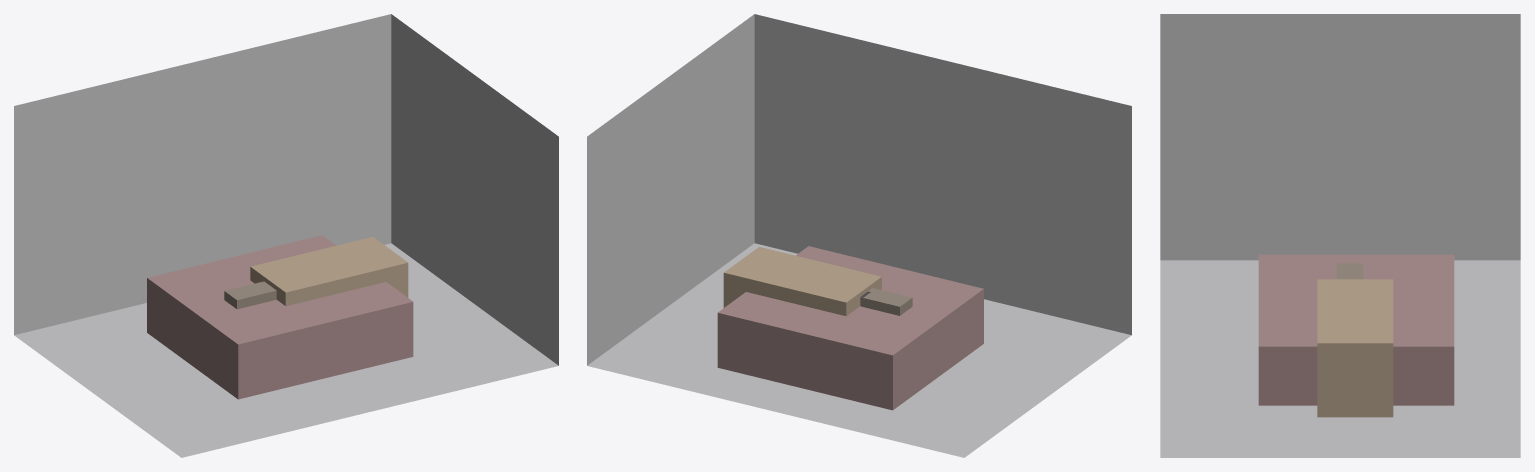
The model's file is optimised_layout.glb.
The picture shows the model from 3 angles, left to right: view 1: azimuth 30°, elevation 25°; view 2: azimuth 150°, elevation 25°; view 3: azimuth 270°, elevation 25°; orthographic projection. The views are drawn at different scales.
Visible parts, largest first — view 1: room, bed, desk, suitcase; view 2: room, bed, desk, suitcase; view 3: room, bed, desk, suitcase.
Boxes of the visible parts, <box> form: room: <box>14,14,558,457</box>; bed: <box>147,235,413,399</box>; desk: <box>250,237,408,306</box>; suitcase: <box>224,281,276,309</box>; room: <box>587,14,1131,457</box>; bed: <box>717,246,983,410</box>; desk: <box>723,247,881,316</box>; suitcase: <box>860,288,912,315</box>; room: <box>1160,14,1520,457</box>; bed: <box>1258,254,1454,405</box>; desk: <box>1317,279,1393,417</box>; suitcase: <box>1336,263,1363,279</box>.
Size of the model in its own units: 4.31 by 2.5 by 3.31.
